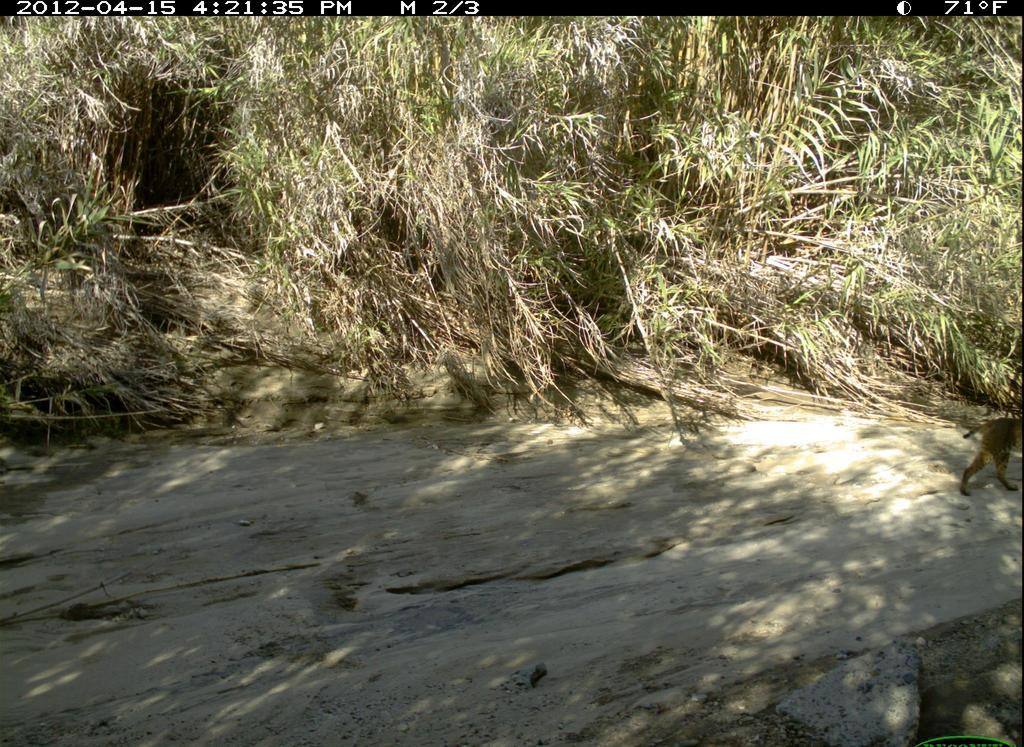bobcat: (954, 408, 1023, 497)
